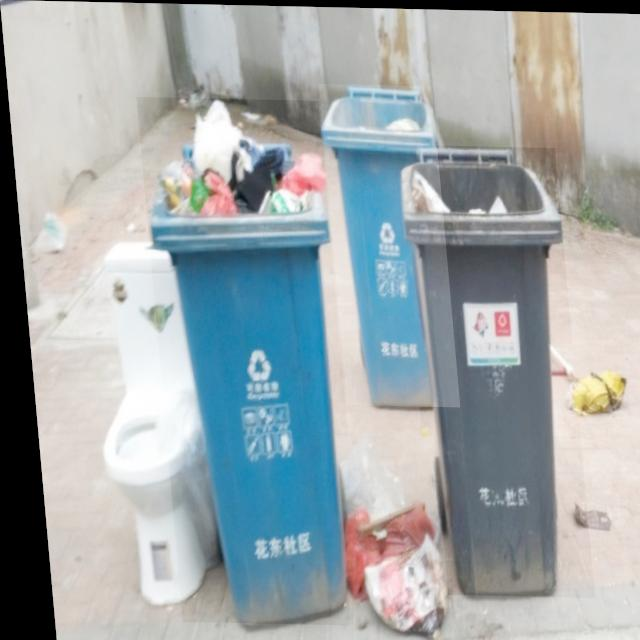garbage: (326, 433, 441, 640), (542, 341, 622, 414)
garbage_bin: (394, 142, 584, 596), (317, 82, 453, 405)
overflow: (135, 96, 353, 624)
